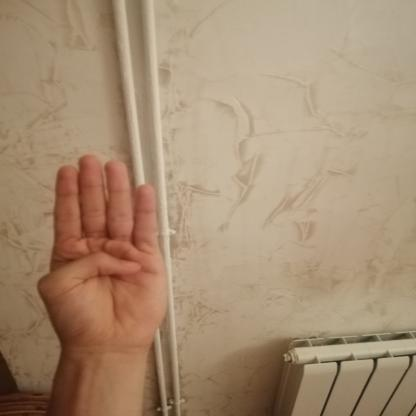KAAF: (19, 145, 188, 363)
